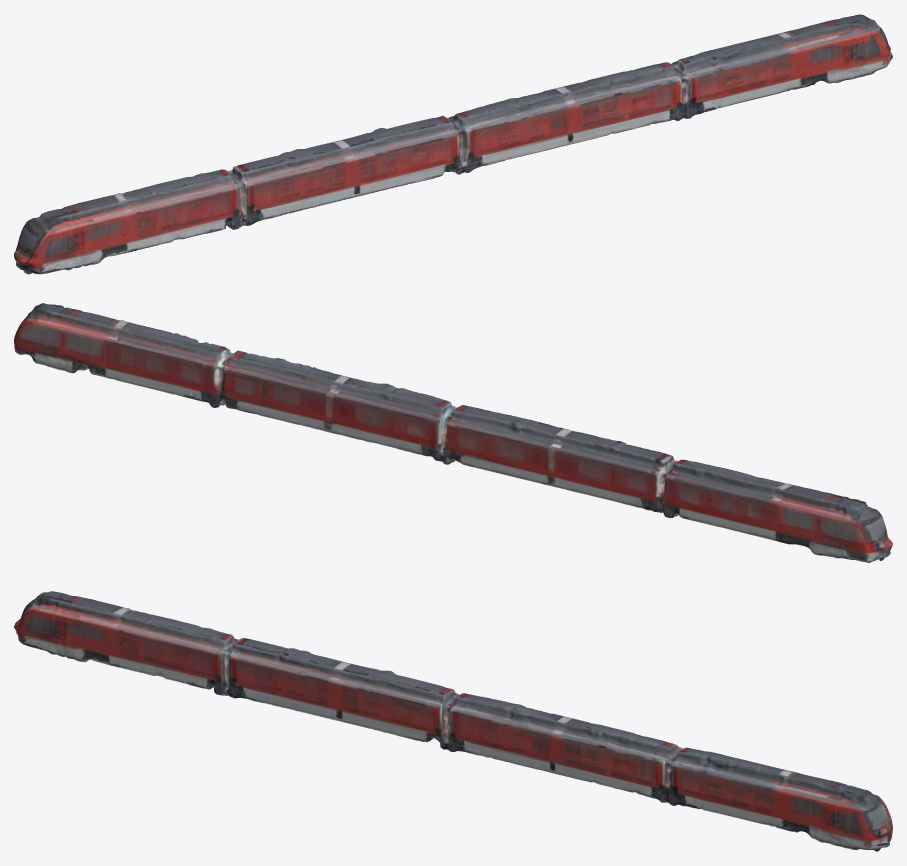
The model's file is bvg_tram.glb.
The picture shows the model from 3 angles, top to bottom: view 1: azimuth 30°, elevation 25°; view 2: azimuth 150°, elevation 25°; view 3: azimuth 330°, elevation 25°; orthographic projection.
Size of the model in its own units: 2 by 0.1224 by 0.0836.
Materials: 1 (1 with a texture image).
